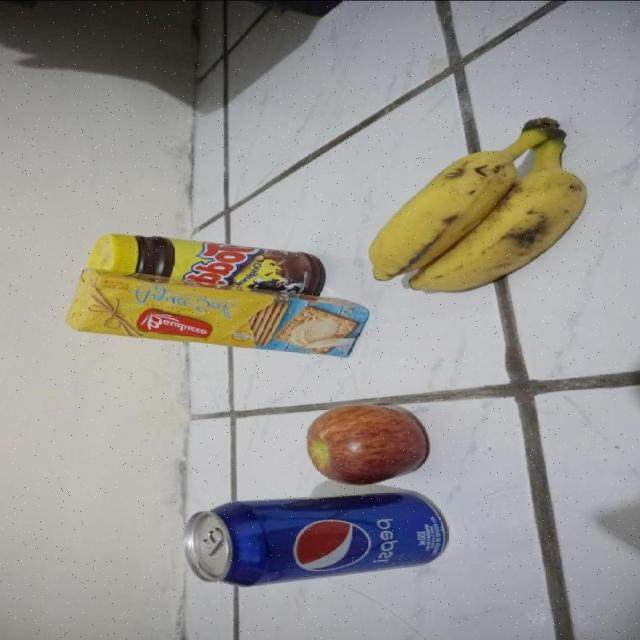Apple: (304, 403, 431, 486)
Banana: (367, 117, 589, 292)
ChocolatePowder: (85, 231, 328, 302)
Cracker: (63, 268, 370, 358)
SodaCan: (183, 491, 450, 588)
